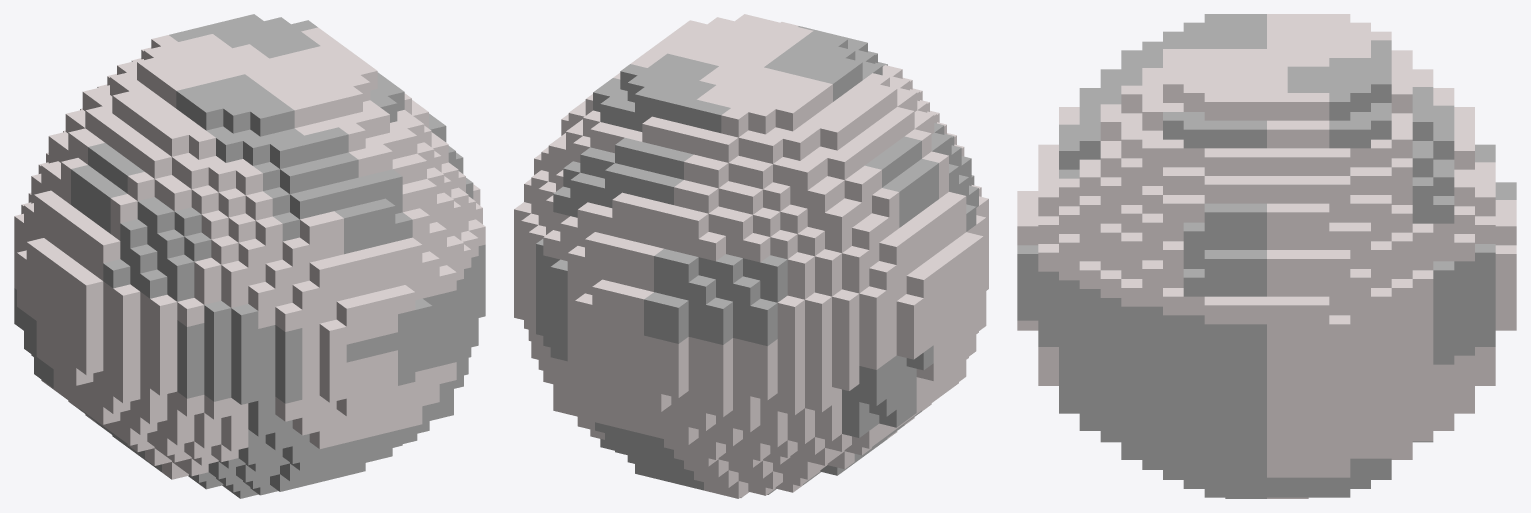
Rendered from planet_5.obj.
The picture shows the model from 3 angles, left to right: view 1: azimuth 30°, elevation 25°; view 2: azimuth 150°, elevation 25°; view 3: azimuth 270°, elevation 25°; orthographic projection. The views are drawn at different scales.
Size of the model in its own units: 23 by 22 by 24.
1 material, 1 textured.
